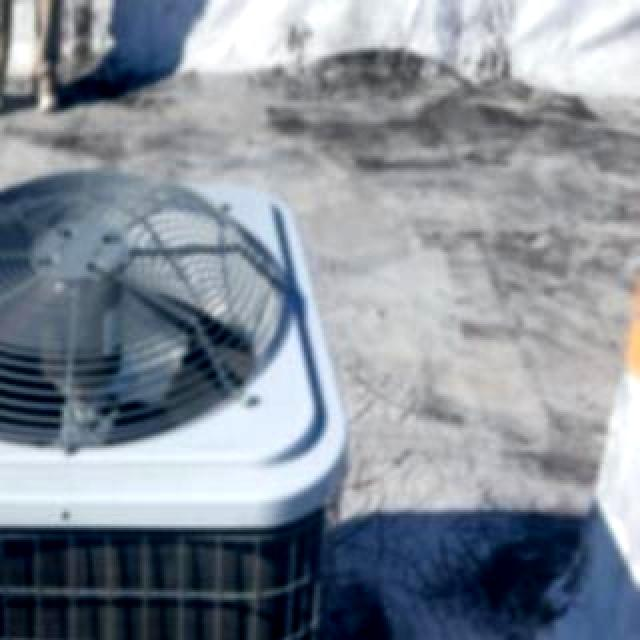SPLIT-SYSTEM: (0, 180, 354, 640)
